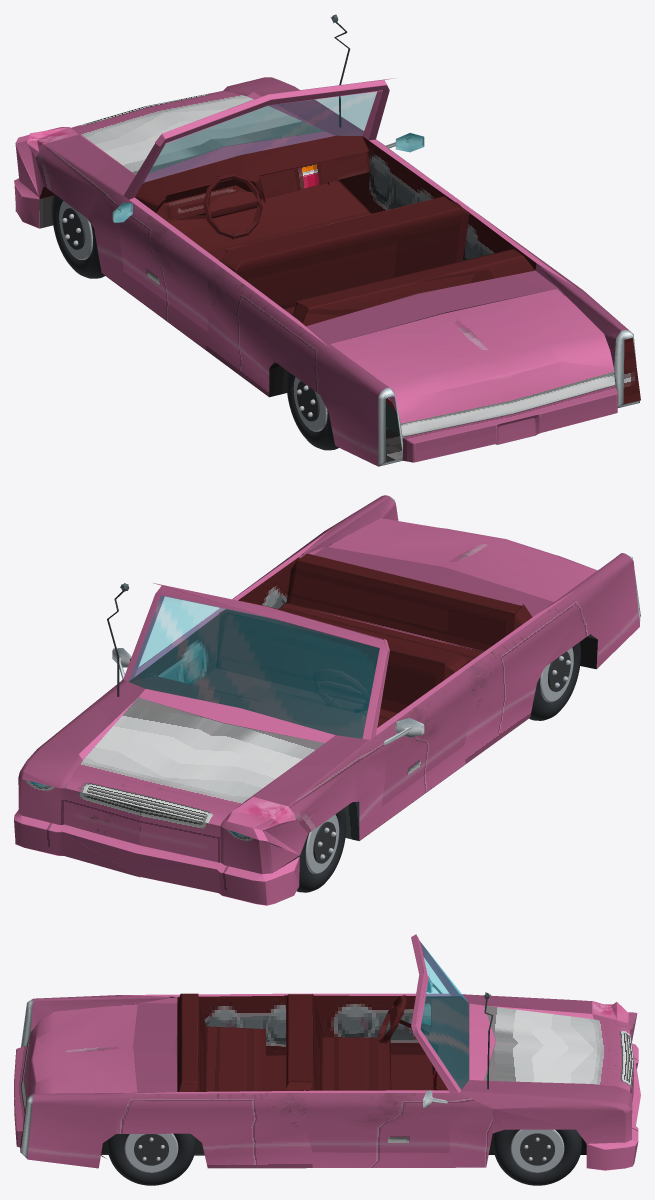
File: car-famil_v.glb
3 renders of one model, top to bottom at view 1: azimuth 30°, elevation 25°; view 2: azimuth 150°, elevation 25°; view 3: azimuth 270°, elevation 25°, orthographic. The views are drawn at different scales.
Visible parts, largest first — view 1: famil_vShape.006, famil_vShape.003, TrunkRotShape, HoodRotShape, famil_vShape.010, famil_vShape.007, DoorDRotShape.001, famil_vShape.004, famil_vShape.002, DoorPRotShape.002, extrasShape.002, famil_vShape.009 (+7 smaller); view 2: famil_vShape.006, famil_vShape.003, famil_vShape.010, HoodRotShape, famil_vShape.005, famil_vShape.007, TrunkRotShape, DoorDRotShape.001, famil_vShape.004, DoorPRotShape.002, extrasShape.002, Rounded tire.003 (+7 smaller); view 3: famil_vShape.006, famil_vShape.004, famil_vShape.003, HoodRotShape, TrunkRotShape, DoorPRotShape.001, famil_vShape.007, DoorDRotShape.002, famil_vShape.010, Rounded tire.002, Rounded tire, famil_vShape.005 (+10 smaller).
Part boxes in pixels (left/top/right/bottom): famil_vShape.006: left=39, top=135, right=640, bottom=404; famil_vShape.003: left=15, top=77, right=639, bottom=466; TrunkRotShape: left=330, top=288, right=615, bottom=437; HoodRotShape: left=71, top=90, right=324, bottom=174; famil_vShape.010: left=143, top=92, right=376, bottom=183; famil_vShape.007: left=15, top=78, right=575, bottom=347; DoorDRotShape.001: left=120, top=200, right=216, bottom=331; famil_vShape.004: left=306, top=136, right=582, bottom=343; famil_vShape.002: left=402, top=385, right=617, bottom=462; DoorPRotShape.002: left=368, top=141, right=455, bottom=213; extrasShape.002: left=174, top=173, right=395, bottom=410; famil_vShape.009: left=378, top=330, right=640, bottom=466; famil_vShape.006: left=129, top=553, right=640, bottom=738; famil_vShape.003: left=18, top=495, right=639, bottom=874; famil_vShape.010: left=129, top=595, right=379, bottom=738; HoodRotShape: left=66, top=697, right=324, bottom=825; famil_vShape.005: left=14, top=779, right=299, bottom=905; famil_vShape.007: left=79, top=530, right=575, bottom=841; TrunkRotShape: left=326, top=518, right=597, bottom=601; DoorDRotShape.001: left=376, top=671, right=472, bottom=806; famil_vShape.004: left=122, top=529, right=553, bottom=679; DoorPRotShape.002: left=130, top=614, right=219, bottom=684; extrasShape.002: left=311, top=668, right=369, bottom=712; Rounded tire.003: left=297, top=808, right=346, bottom=892; famil_vShape.006: left=20, top=993, right=469, bottom=1152; famil_vShape.004: left=116, top=1003, right=492, bottom=1168; famil_vShape.003: left=27, top=994, right=637, bottom=1168; HoodRotShape: left=484, top=1005, right=633, bottom=1091; TrunkRotShape: left=21, top=1003, right=137, bottom=1111; DoorPRotShape.001: left=305, top=1093, right=449, bottom=1152; famil_vShape.007: left=122, top=934, right=635, bottom=1093; DoorDRotShape.002: left=313, top=995, right=450, bottom=1054; famil_vShape.010: left=420, top=942, right=468, bottom=1089; Rounded tire.002: left=493, top=1129, right=581, bottom=1185; Rounded tire: left=107, top=1133, right=195, bottom=1185; famil_vShape.005: left=586, top=1014, right=640, bottom=1170.
Size of the model in its own units: 2.52 by 1.78 by 5.35.
Materials: 15 (12 with a texture image).
